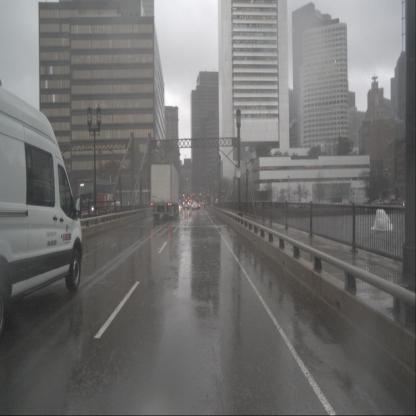vehicle-bus-rigid: (77, 179, 115, 219)
vehicle-car: (0, 79, 83, 343), (107, 201, 124, 217), (183, 198, 190, 210), (192, 201, 198, 210), (195, 202, 200, 210)
